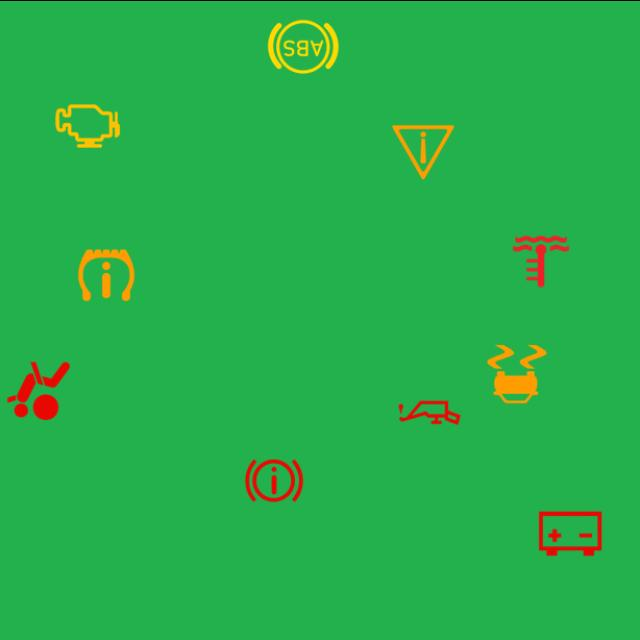Anti Lock Braking System: (265, 7, 342, 84)
Braking System Issue: (235, 441, 312, 518)
Charging System Issue: (532, 494, 608, 571)
Check Engine: (49, 86, 126, 164)
Electronic Stability Problem -ESP-: (478, 334, 556, 412)
Engine Overheating Warning Light: (502, 222, 580, 299)
Low Engine Oil Warning Light: (391, 373, 468, 450)
Low Tire Pressure Warning Light: (68, 235, 145, 312)
Master warning light: (384, 112, 462, 190)
SRS-Airbag: (0, 352, 77, 428)
